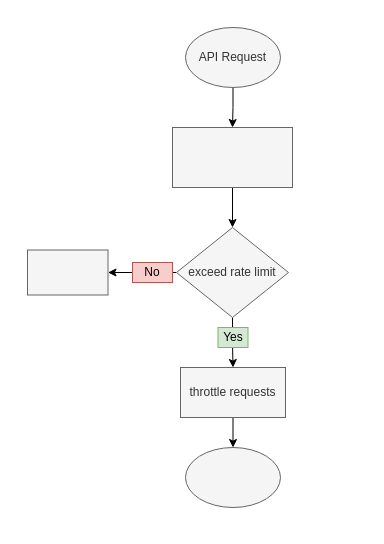
This 384x544 diagram has some shape labels left out. Each missing label, with the box of its shape:
allow request: (26, 249, 108, 295)
End: (184, 446, 280, 508)
Rate limit middleware: (172, 126, 292, 188)
